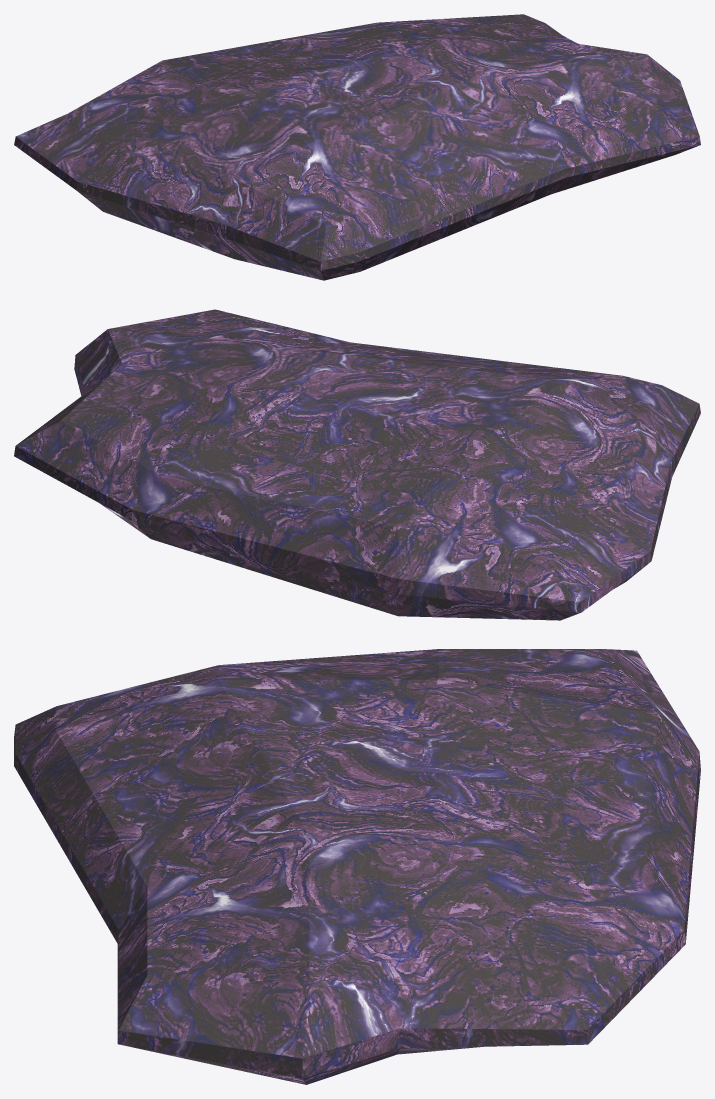
The model's file is Sea_RockL_1.fbx.
3 renders of one model, top to bottom at view 1: azimuth 30°, elevation 25°; view 2: azimuth 150°, elevation 25°; view 3: azimuth 270°, elevation 25°, orthographic. The views are drawn at different scales.
Parts seen in each view (by area): view 1: Sea_RockL_1; view 2: Sea_RockL_1; view 3: Sea_RockL_1.
Boxes of the visible parts, bbox=[...] form: Sea_RockL_1: bbox=[14, 14, 700, 280]; Sea_RockL_1: bbox=[14, 309, 700, 620]; Sea_RockL_1: bbox=[14, 649, 700, 1084].
Bounding box in the file's own units: 6835 × 1113 × 4817.
1 material, 1 textured.
